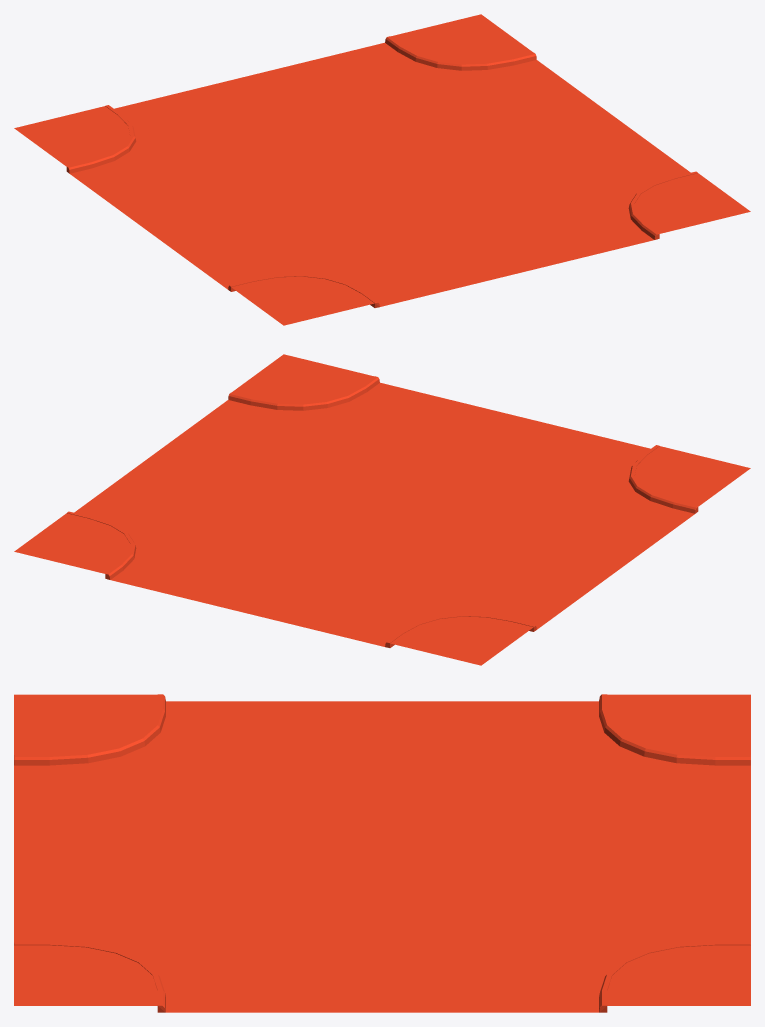
File: SM_Road_Cross_10x10_City.fbx
3 views of the same model, one above another, from view 1: azimuth 30°, elevation 25°; view 2: azimuth 150°, elevation 25°; view 3: azimuth 270°, elevation 25° (orthographic). The views are drawn at different scales.
Visible parts, largest first — view 1: SM_Road_Cross_10x10_City; view 2: SM_Road_Cross_10x10_City; view 3: SM_Road_Cross_10x10_City.
Boxes of the visible parts, x1,y1,x2,y2 form: SM_Road_Cross_10x10_City: (14, 14, 750, 325); SM_Road_Cross_10x10_City: (14, 354, 750, 665); SM_Road_Cross_10x10_City: (14, 694, 750, 1012).
Bounding box in the file's own units: 10 × 0.1084 × 10.
